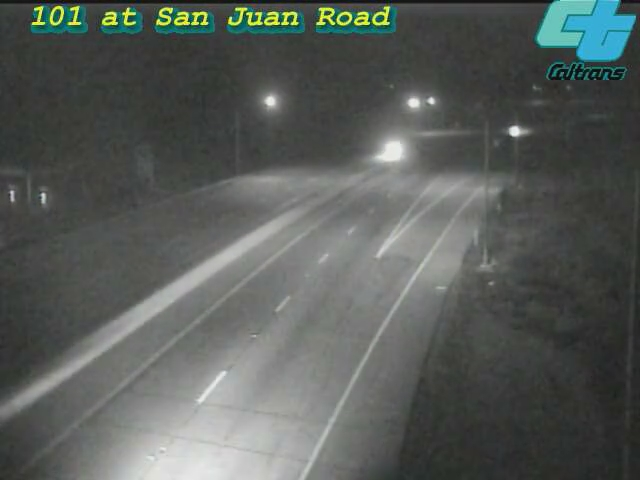vehicle: (363, 126, 413, 176), (492, 105, 542, 155)
